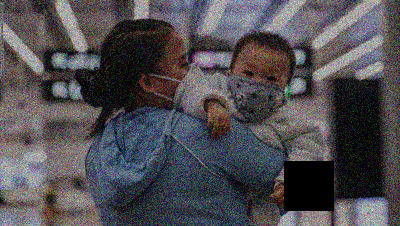with_mask: (226, 61, 287, 122), (172, 50, 205, 112)
